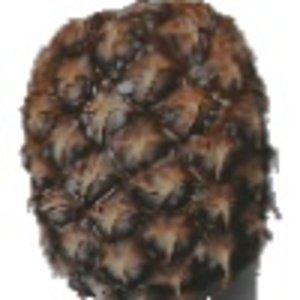abacaxi: (15, 3, 283, 292)
